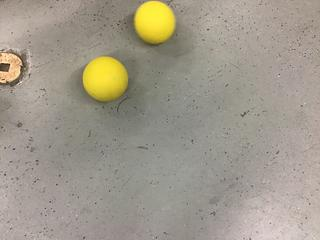power_cell: (81, 55, 131, 97), (133, 1, 178, 46)
